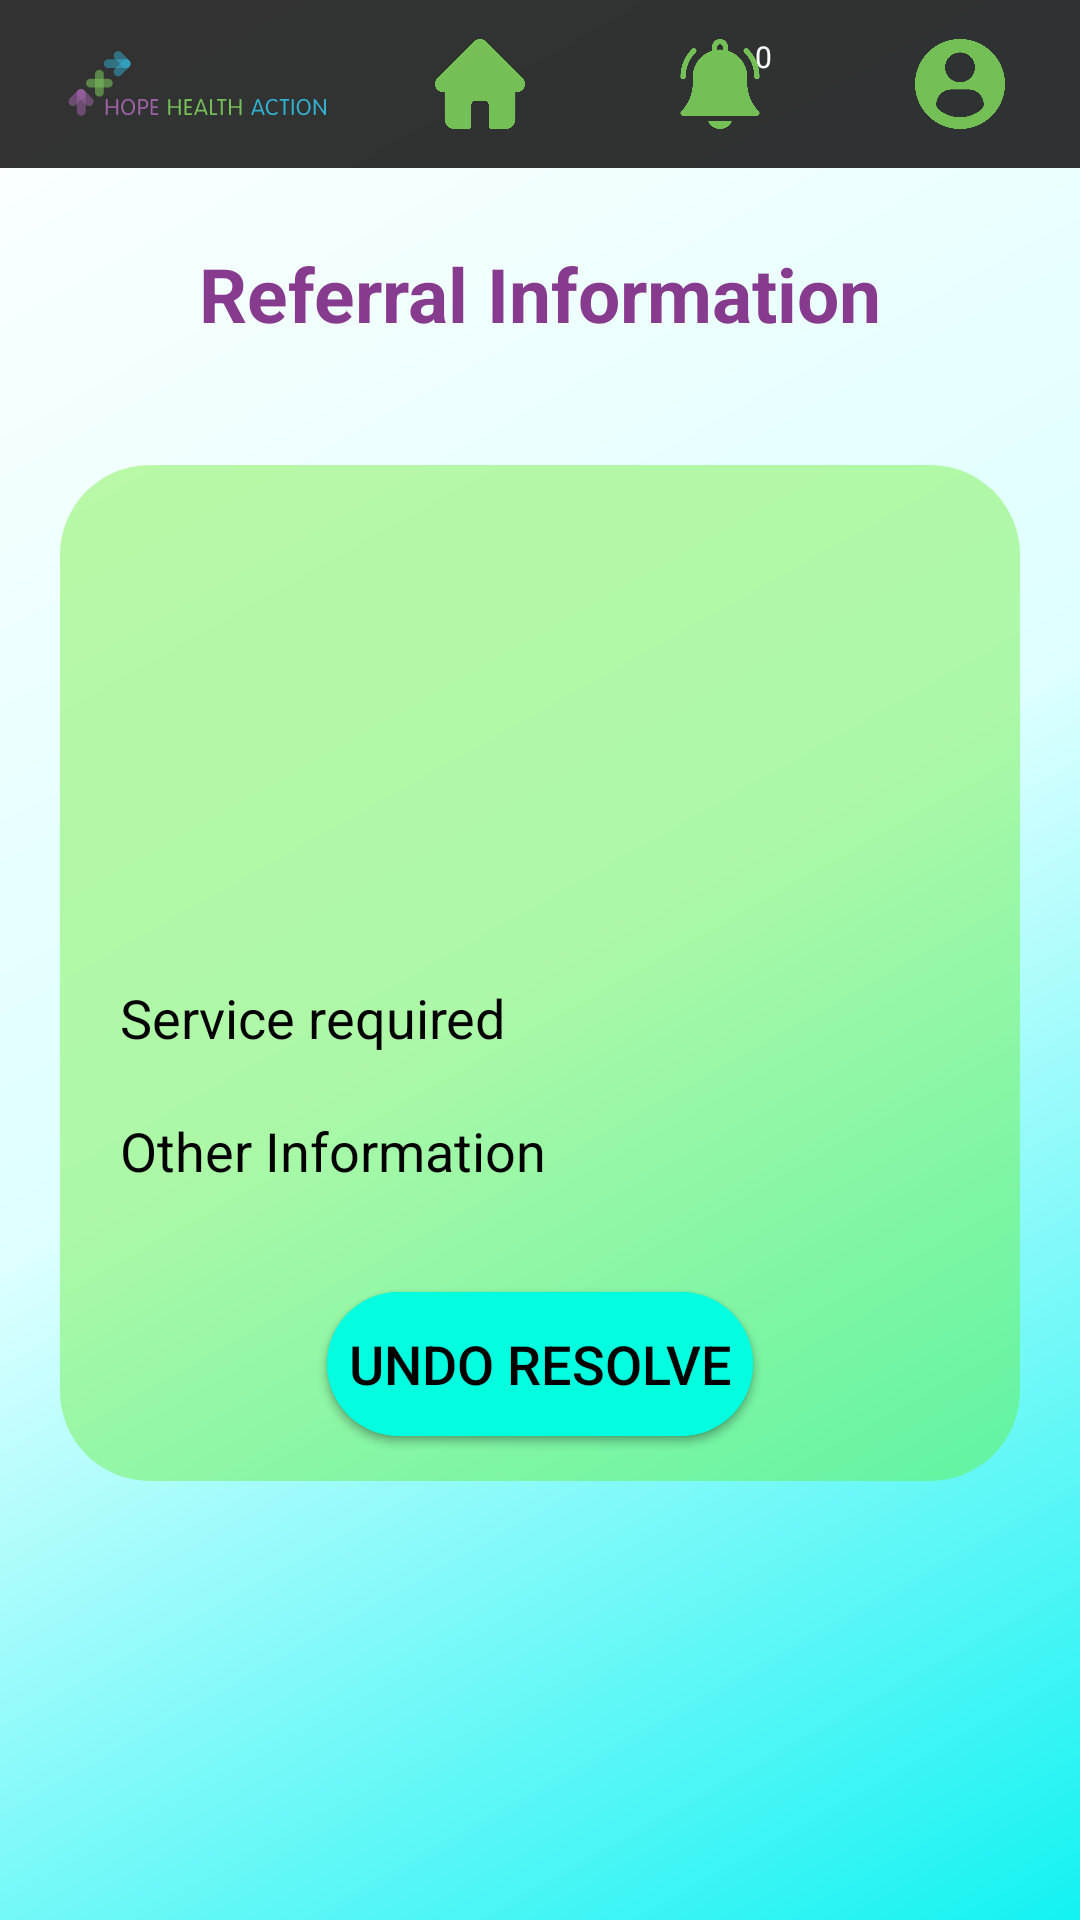

Icon bounding boxes for this 1080w x 1920h phone screenshot, format bbox=(x1, y1, x2, y2):
bell: bbox=(680, 39, 771, 129)
home: bbox=(435, 39, 525, 129)
profile taskbar: bbox=(915, 39, 1005, 129)
